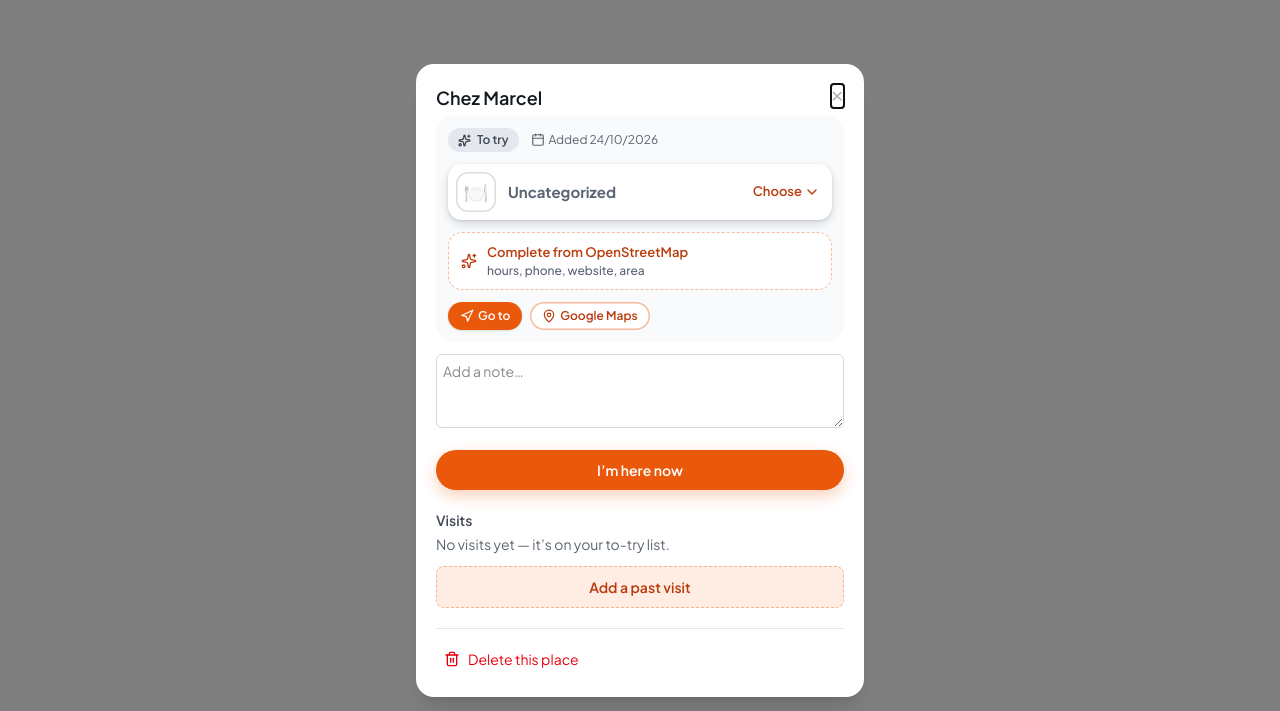
Test: RestaurantDetail › persists a free-typed cuisine through "Other…"
Click the button with aria-label "Category: Uncategorized" at (476, 192), box [448, 164, 832, 220]
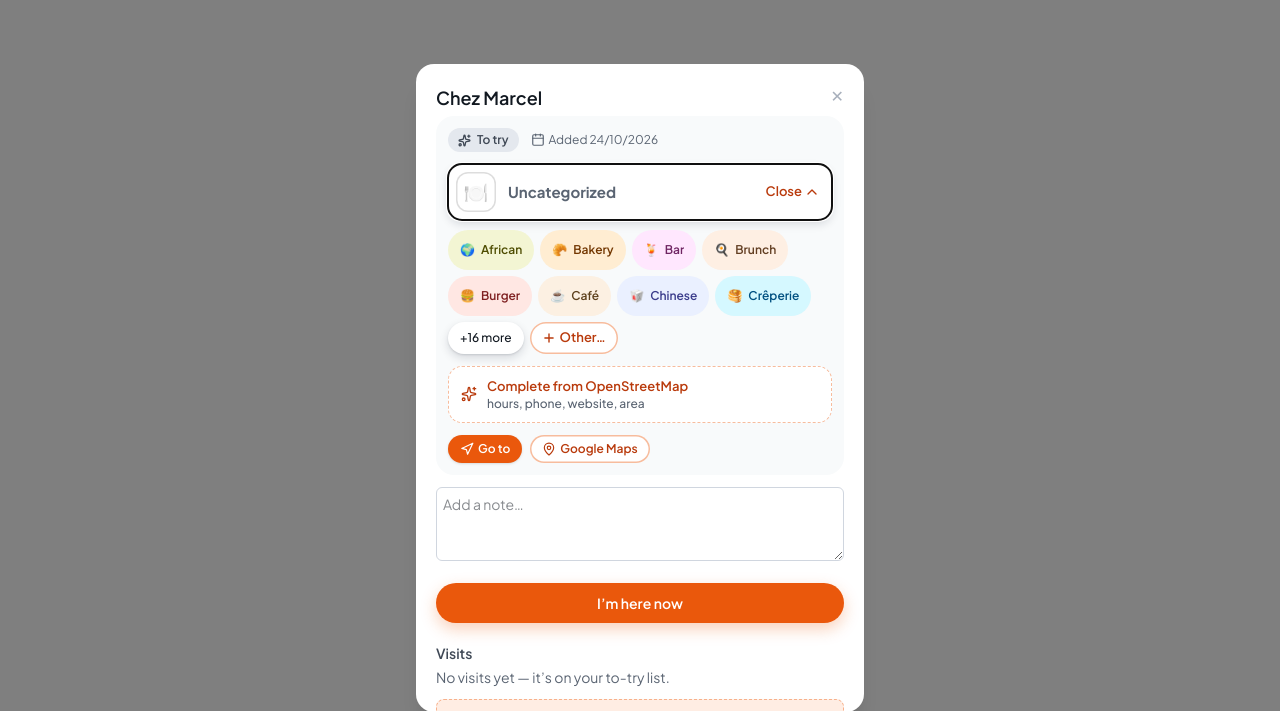
Click the button "Other…" at (574, 338), box [530, 322, 618, 354]
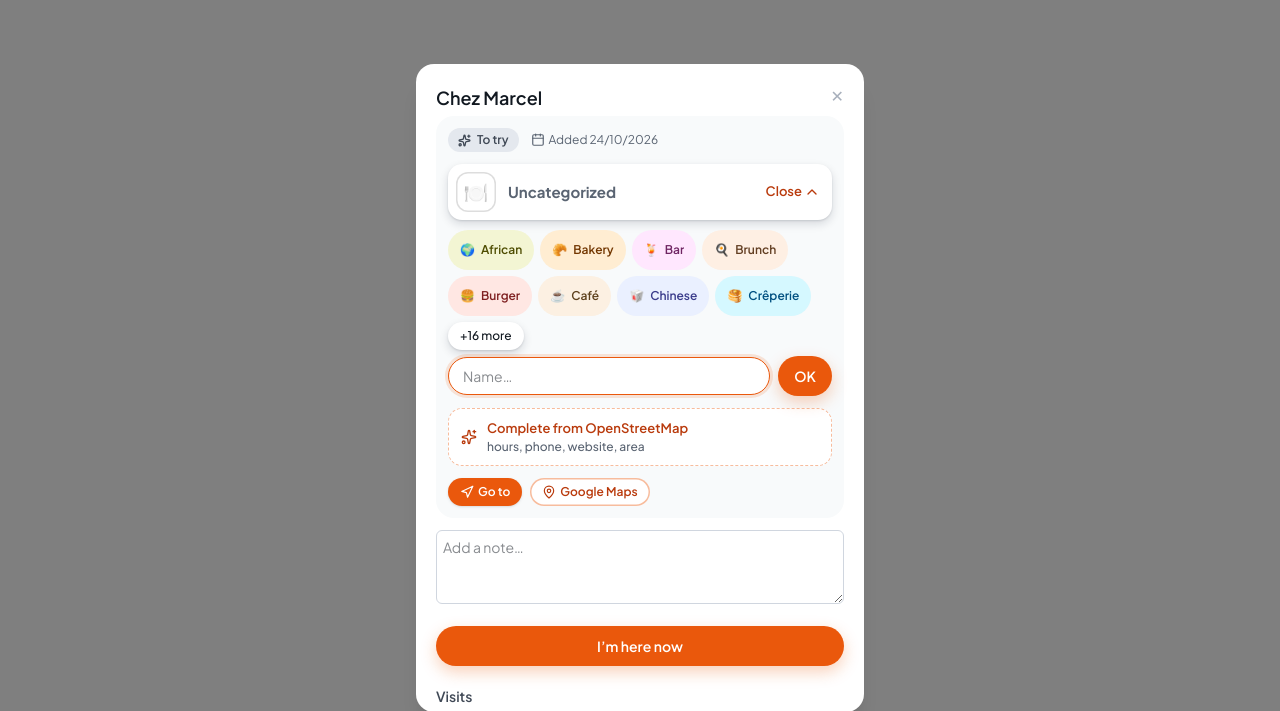
Type "Ramen" into the field named "Other category" at (609, 376), box [448, 357, 770, 395]
Then press Enter
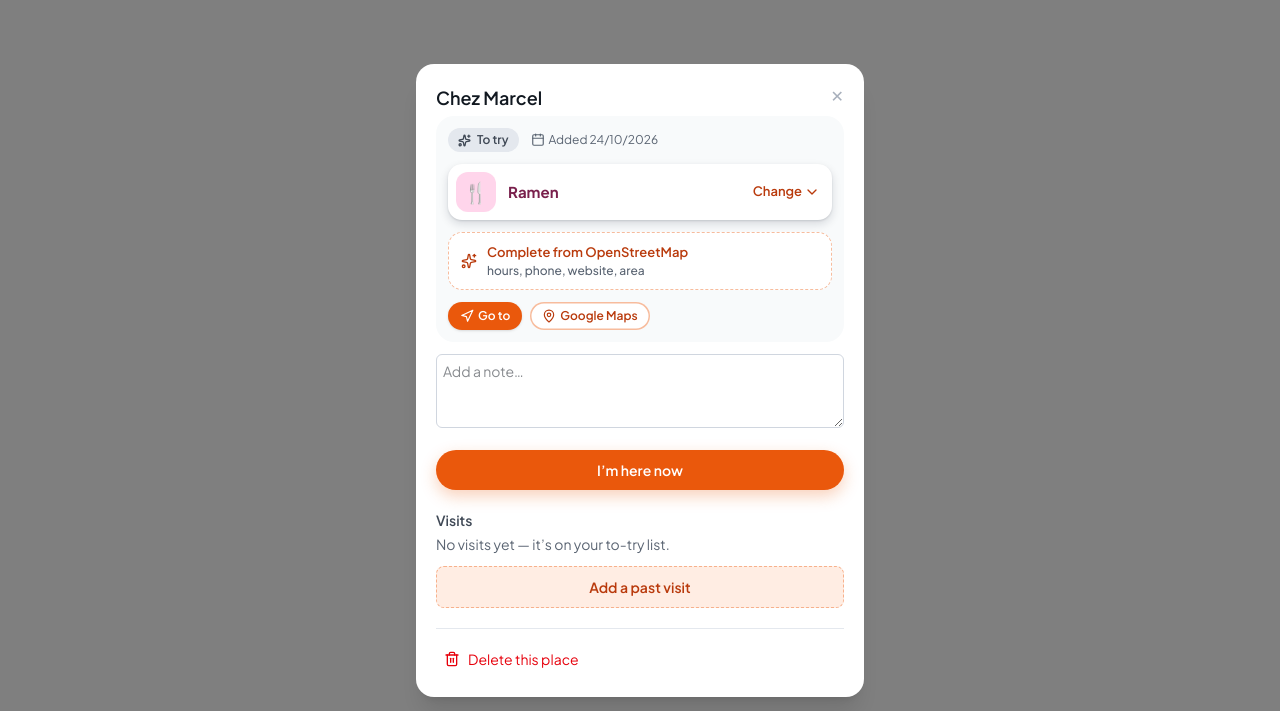
Check: the text "Ramen" is shown, box [508, 182, 559, 201]
